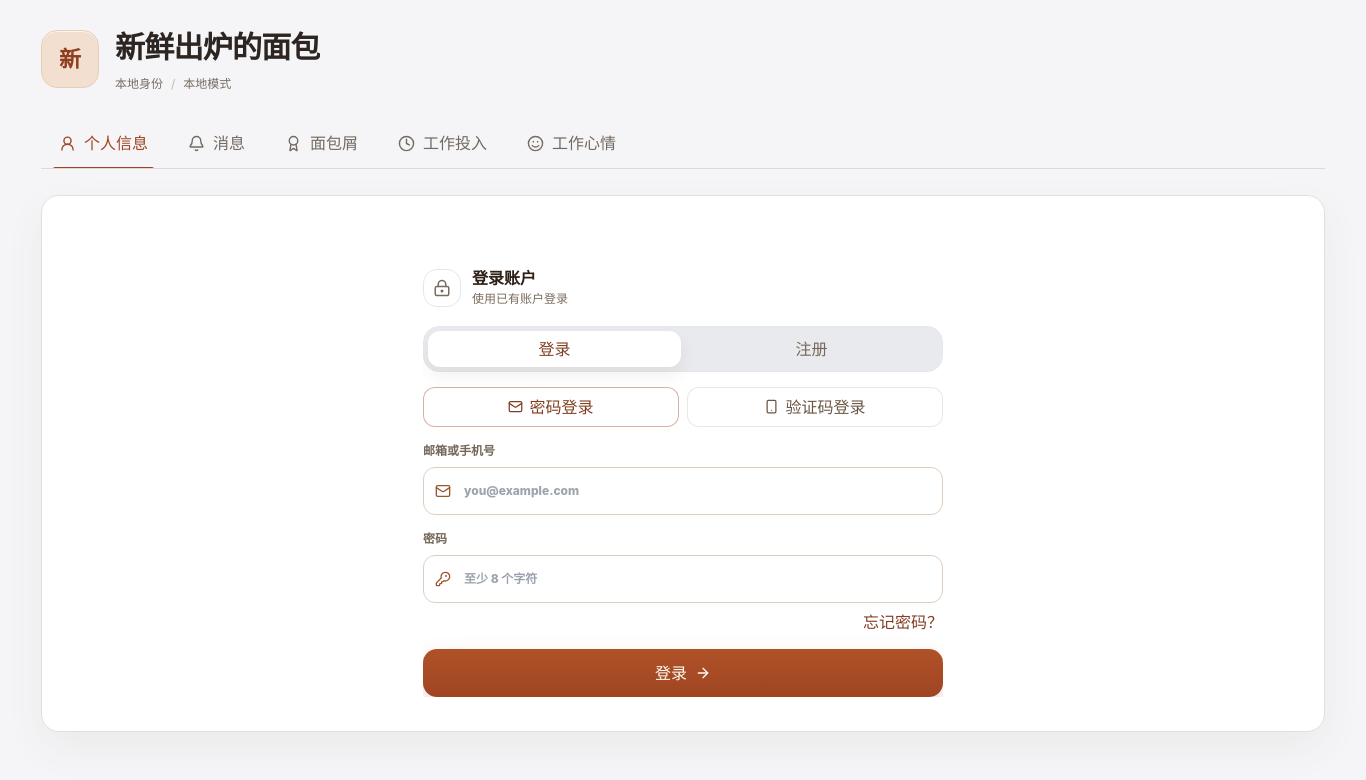
Test: AuthPanel › 通过邮箱验证码重置密码并返回密码登录
The image size is (1366, 780).
(page scrolled)
Step 1. Click the button "忘记密码？" → (903, 622), box top-left (863, 610), bottom-right (943, 634)
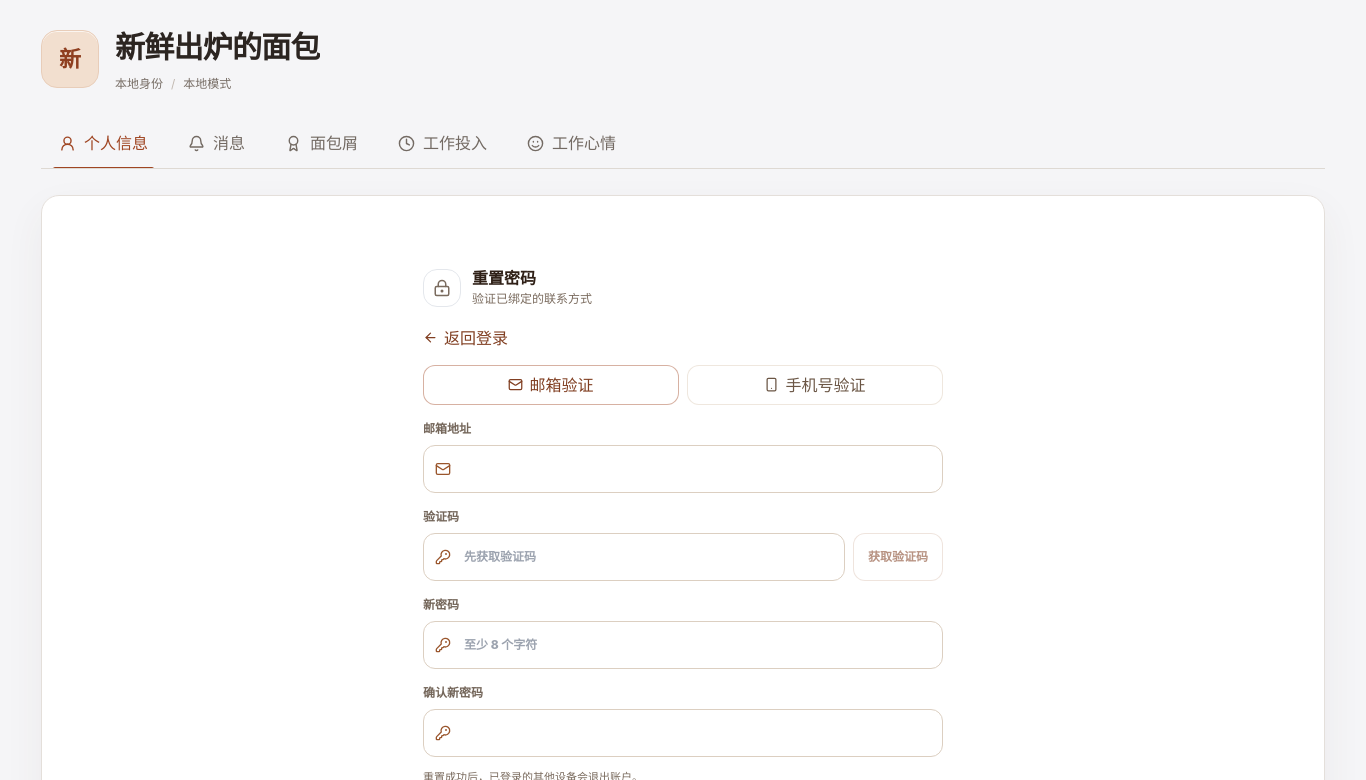
Check: the element named "验证方式" is shown, box top-left (423, 365), bottom-right (943, 405)
Step 2. Type "xiaomai@example.com" into the field labelled "邮箱地址" → (683, 469), box top-left (423, 445), bottom-right (943, 493)
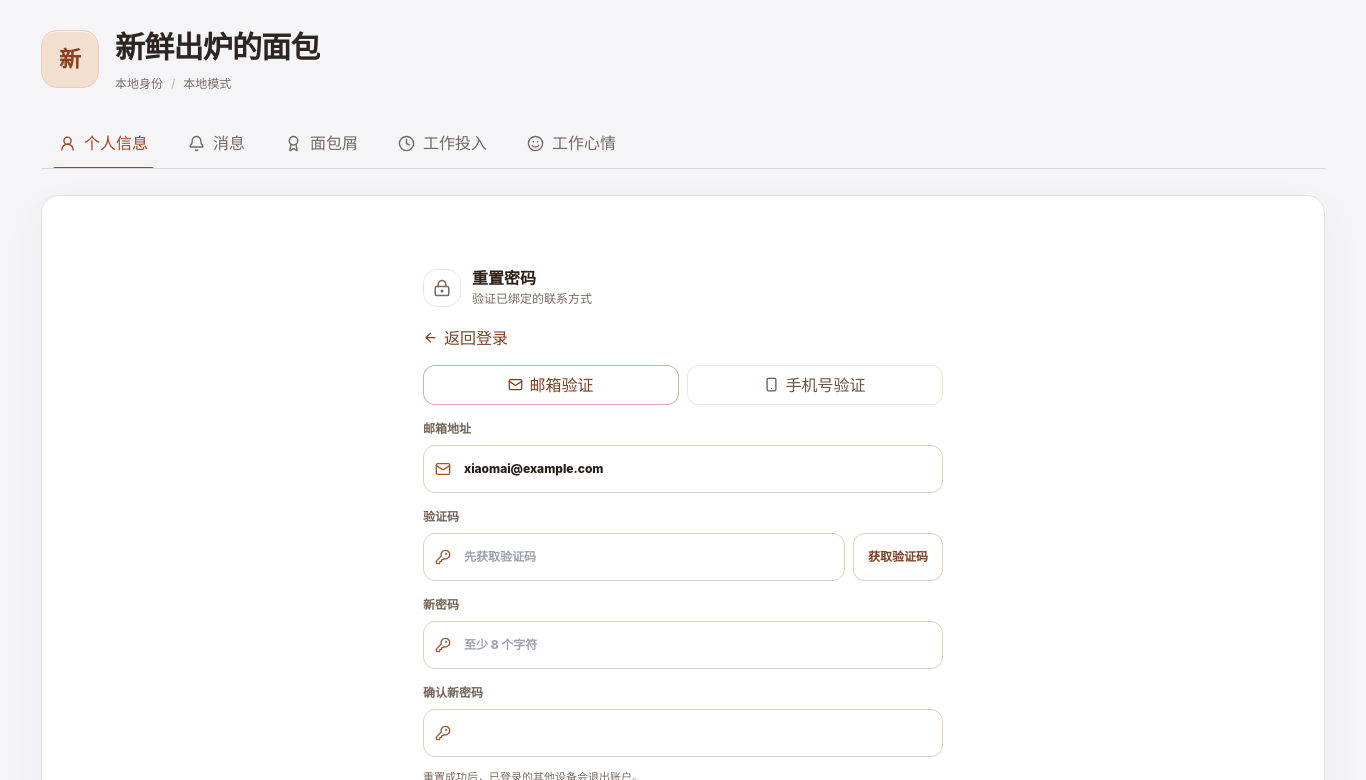
Step 3. Click the button "获取验证码" → (898, 557), box top-left (853, 533), bottom-right (943, 581)
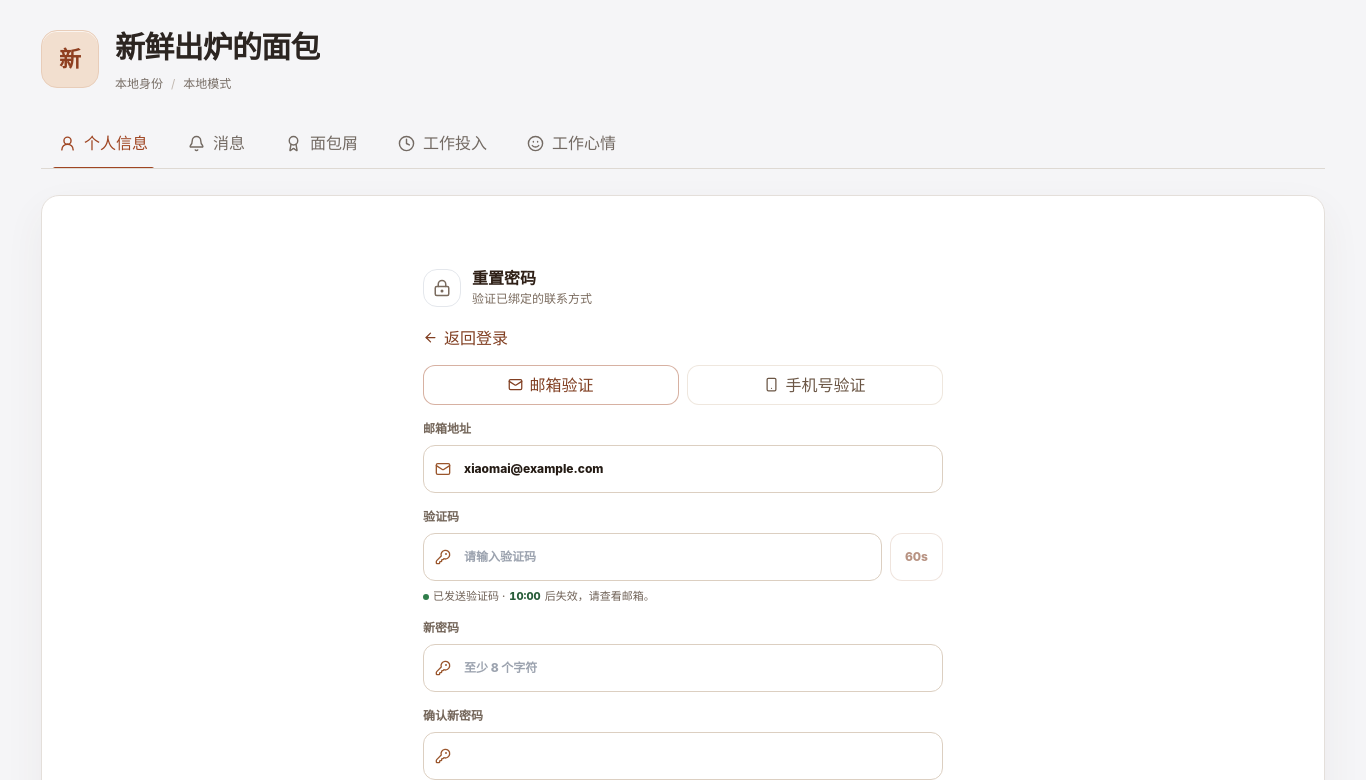
Check: the message shows "已发送验证码", box top-left (433, 589), bottom-right (505, 603)
Step 4. Type "123456" into the field labelled "验证码" → (652, 557), box top-left (423, 533), bottom-right (882, 581)
Step 5. Type "MemoryBread@2026!" into the password field labelled "新密码" → (683, 668), box top-left (423, 644), bottom-right (943, 692)
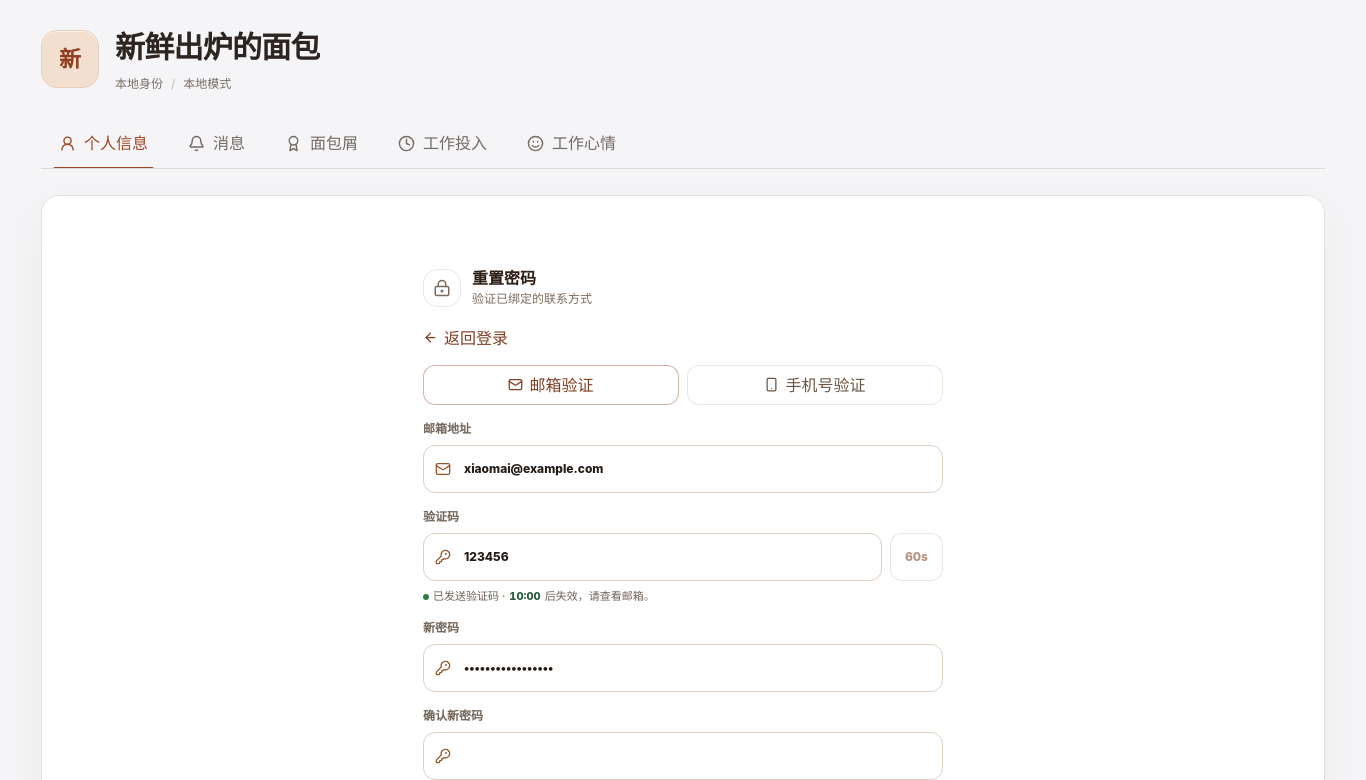
Step 6. Type "MemoryBread@2026!" into the password field labelled "确认新密码" → (683, 756), box top-left (423, 732), bottom-right (943, 779)
(page scrolled)
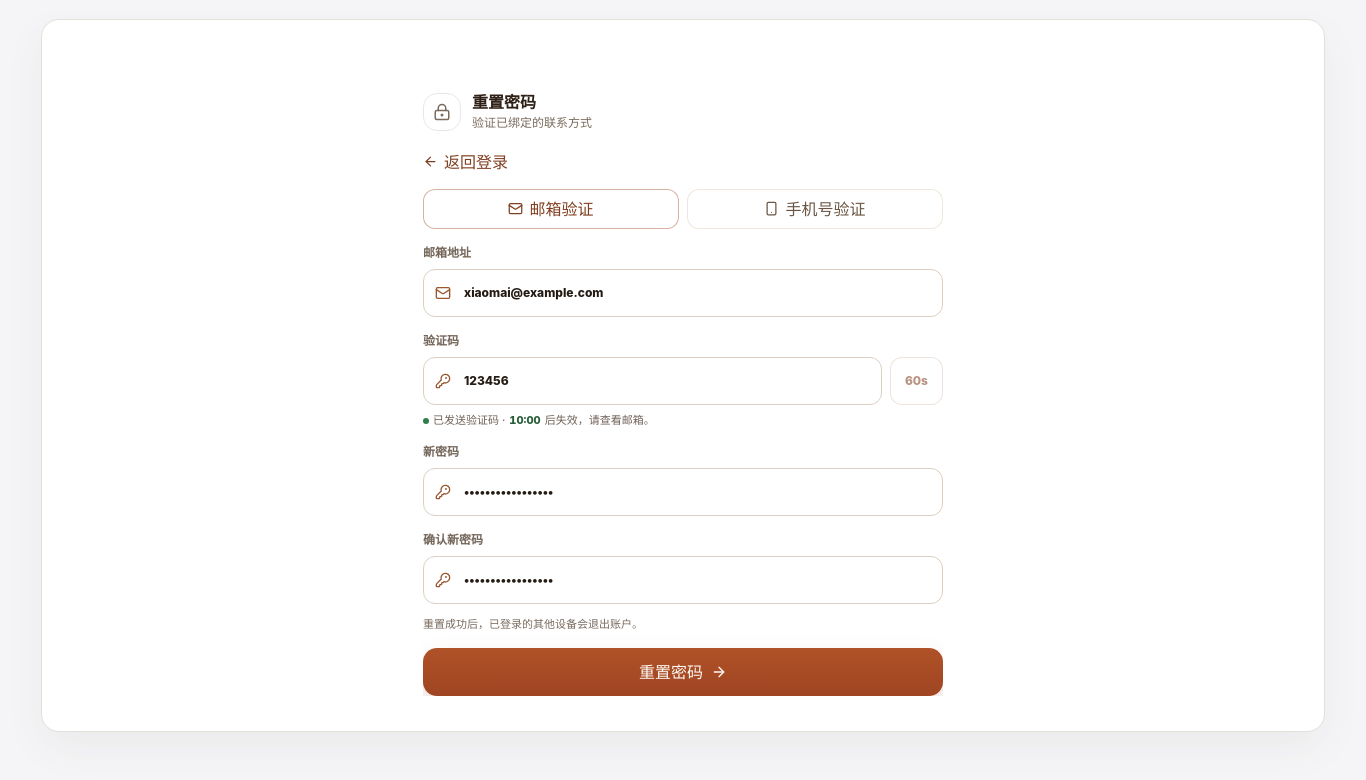
Step 7. Click the button "重置密码" → (683, 672), box top-left (423, 648), bottom-right (943, 696)
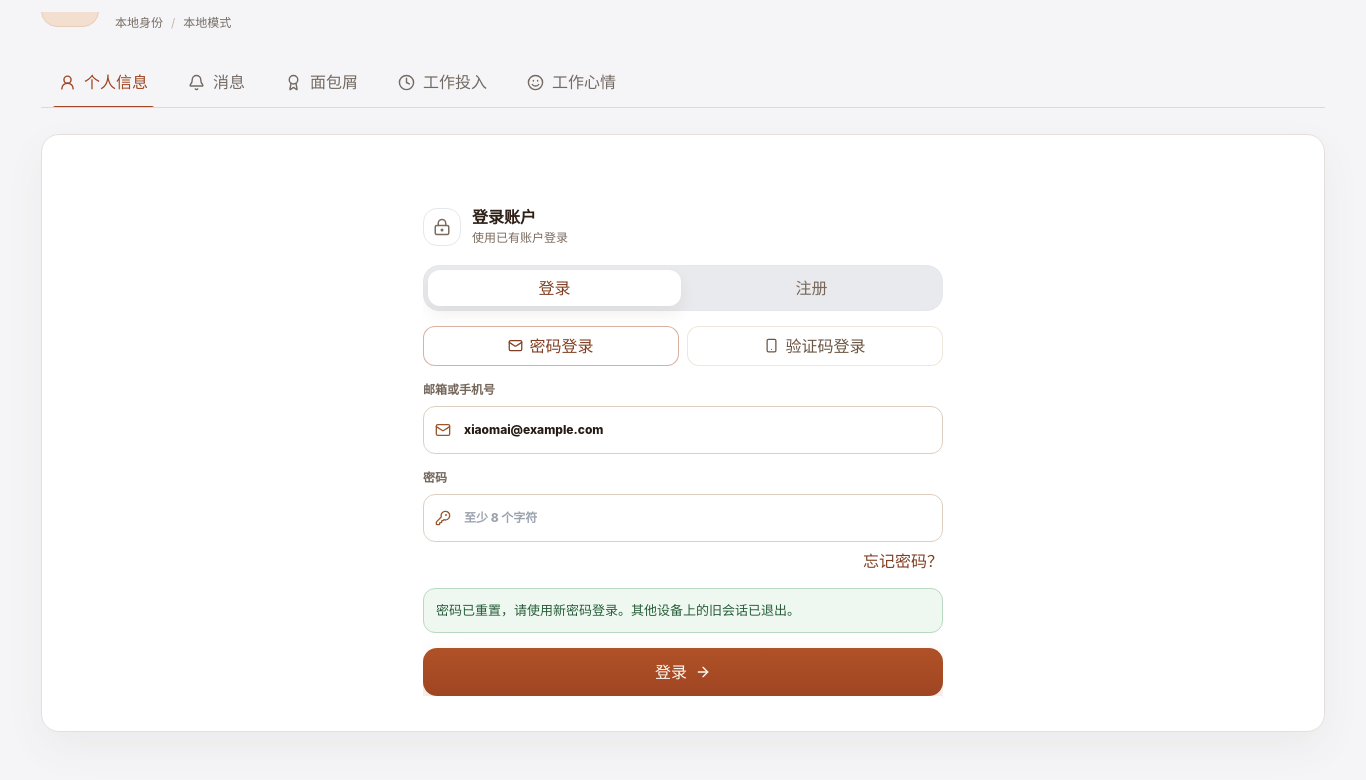
Check: the message shows "密码已重置", box top-left (436, 602), bottom-right (800, 618)
